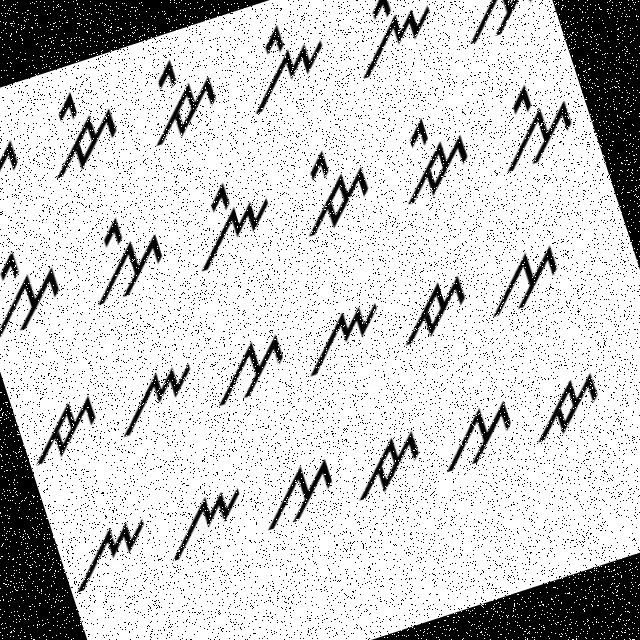ja: (13, 379, 110, 473), (336, 420, 436, 510), (386, 262, 481, 352), (518, 362, 613, 447)
ji: (282, 133, 390, 249), (121, 42, 232, 152), (378, 103, 485, 212), (32, 76, 134, 185)
nya: (97, 344, 209, 446), (290, 285, 399, 384), (152, 476, 258, 570), (58, 505, 164, 595)
nyi: (167, 167, 289, 280), (231, 10, 339, 113), (331, 0, 449, 86)
sa: (192, 317, 302, 416), (473, 231, 572, 329), (428, 392, 528, 484), (248, 448, 349, 538)
si: (472, 68, 592, 180), (68, 202, 177, 316), (0, 230, 79, 344), (439, 0, 548, 51), (0, 106, 39, 220)
